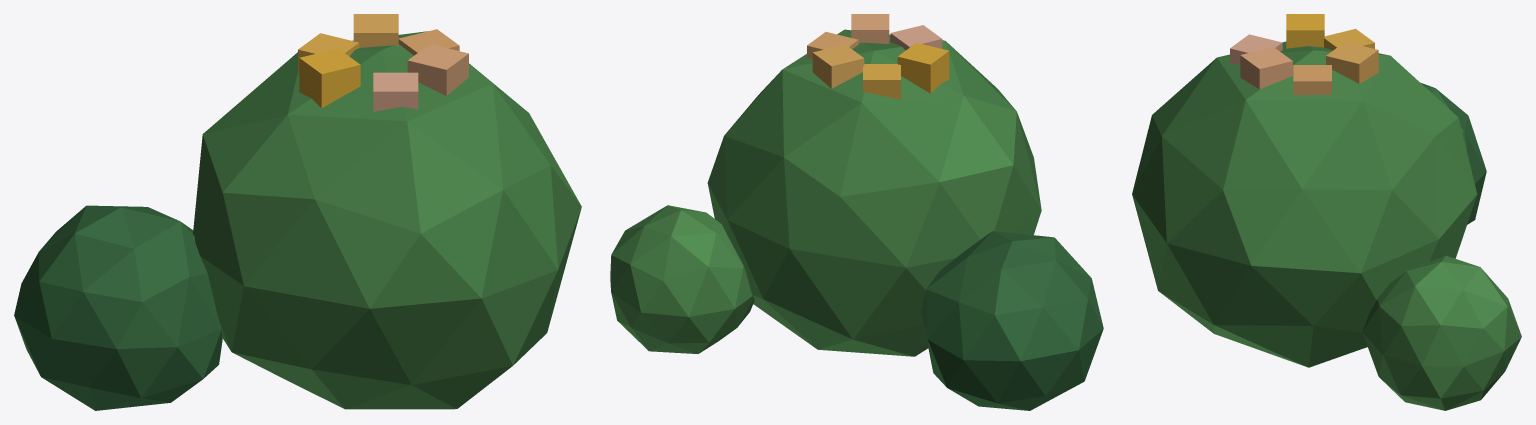
File: Scatter_CactusB.fbx
The picture shows the model from 3 angles, left to right: view 1: azimuth 30°, elevation 25°; view 2: azimuth 150°, elevation 25°; view 3: azimuth 270°, elevation 25°; orthographic projection. The views are drawn at different scales.
Visible parts, largest first — view 1: CactusB; view 2: CactusB; view 3: CactusB.
Part boxes in pixels (x1,y1,x2,y2): CactusB: (14,14,581,410); CactusB: (610,14,1103,410); CactusB: (1132,14,1521,410).
Size of the model in its own units: 6.14 by 3.7 by 4.55.
